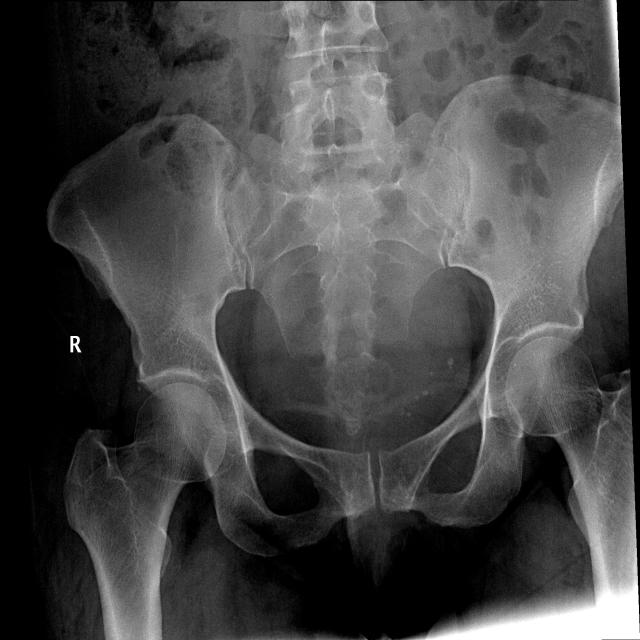normal-left: (505, 337, 638, 598)
normal-right: (64, 383, 225, 640)
